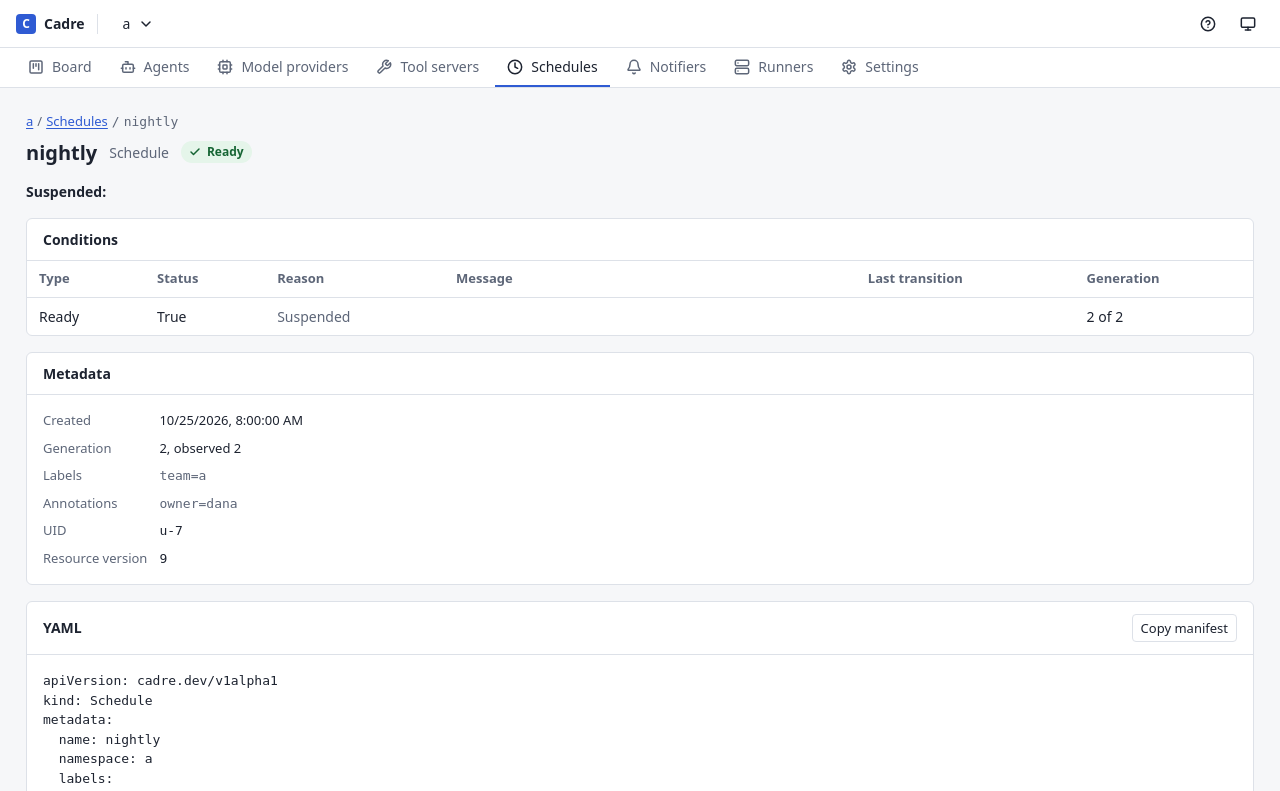
Test: ScheduleDetail › shows a member the whole spec as a manifest, the status under it
Expected: the text "owner=dana" is shown, [159,496,238,510]
What coordinates should you click on to do the following:
click the button "Copy manifest"
I would click on:
 (1184, 628)
Its box is [1132,614,1237,642].
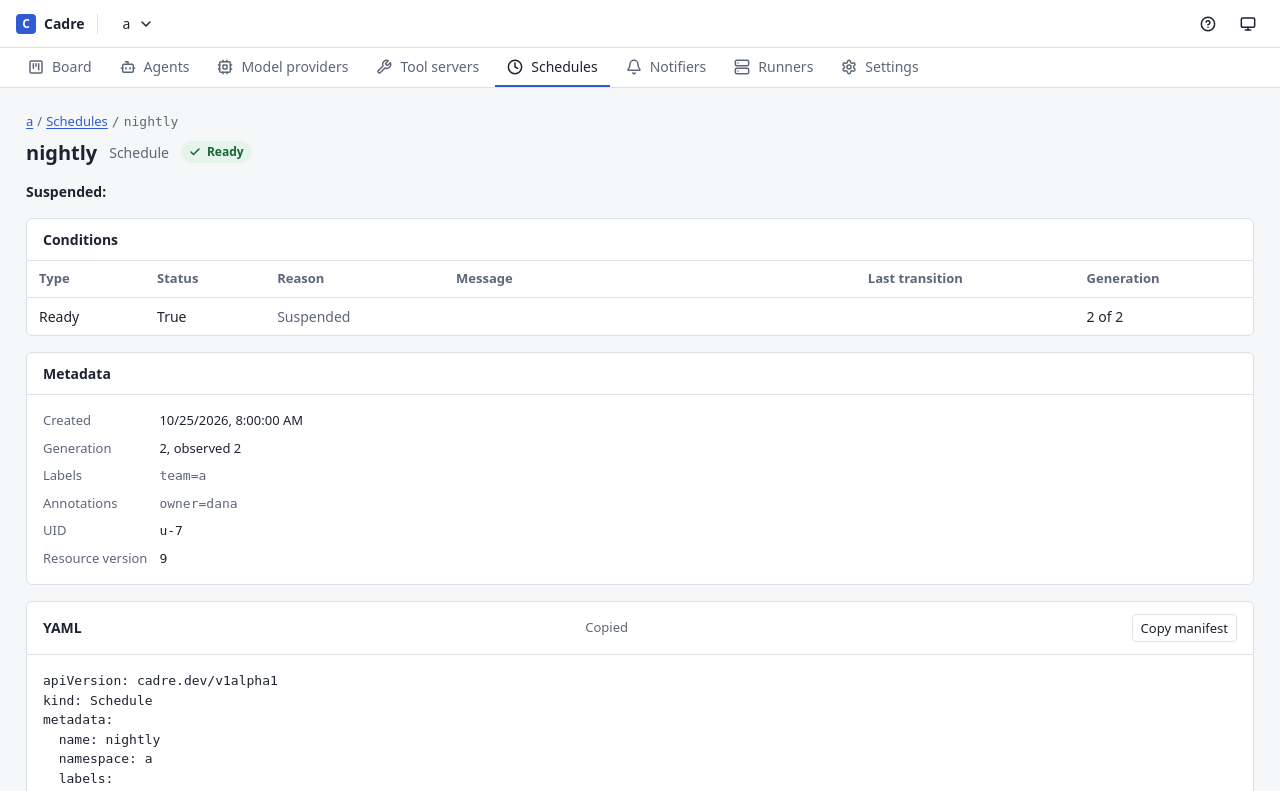
Expected: the text "Copied" is shown, [585,618,628,638]
